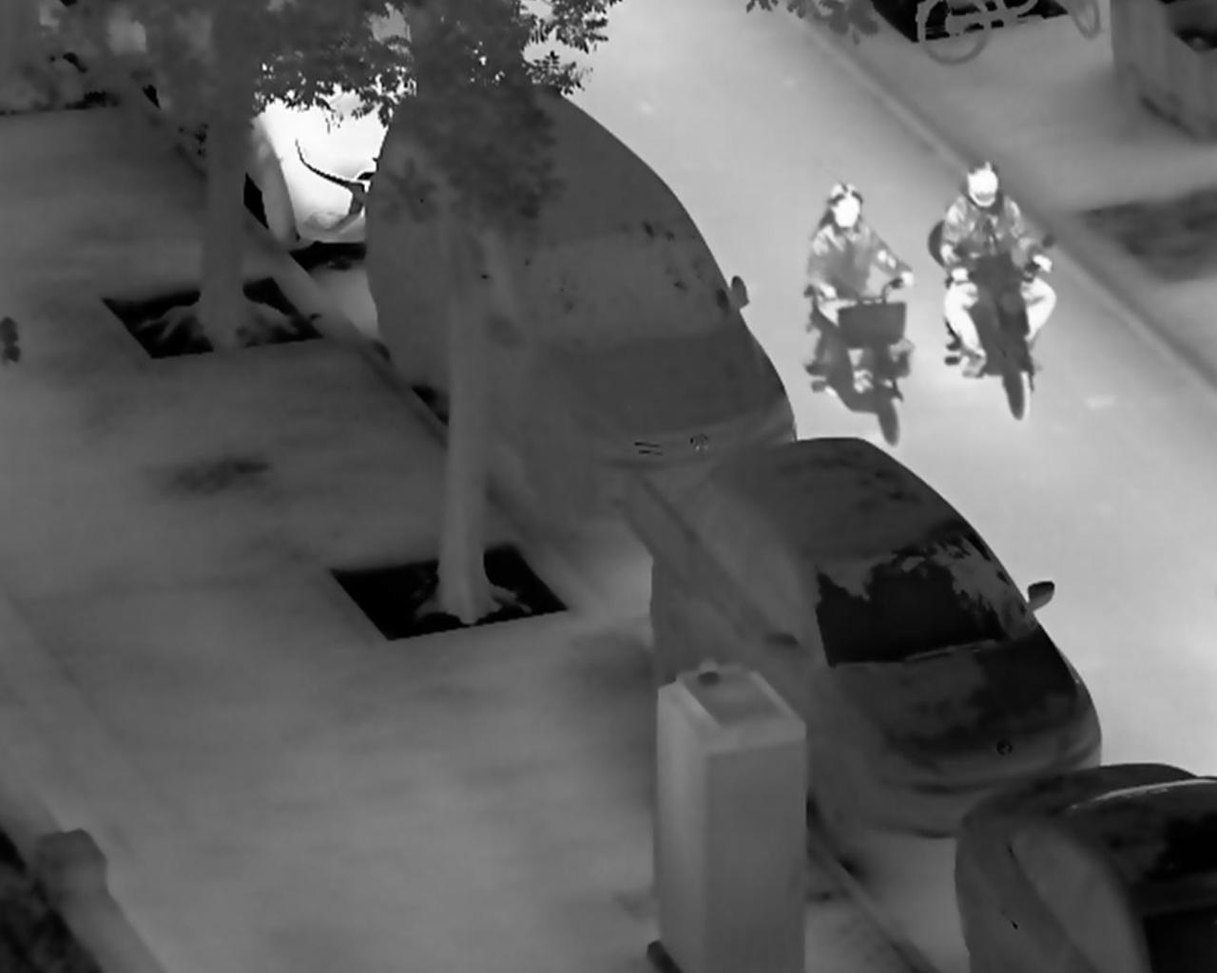person: (937, 162, 1060, 376), (802, 182, 919, 332)
